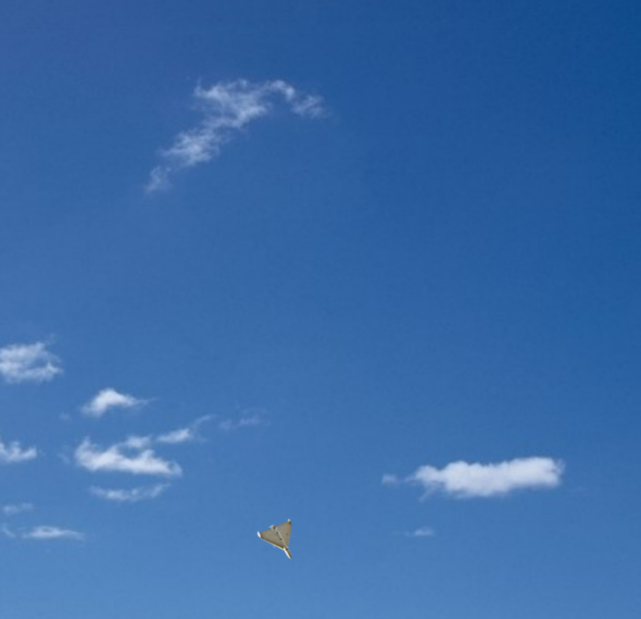military drone: (256, 517, 293, 559)
